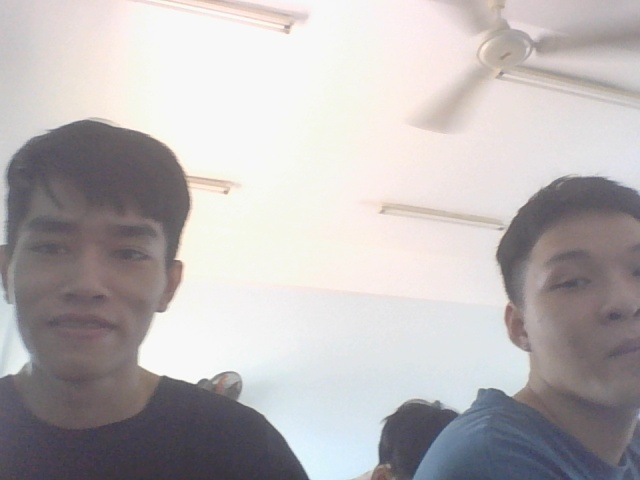real: (0, 110, 204, 399)
